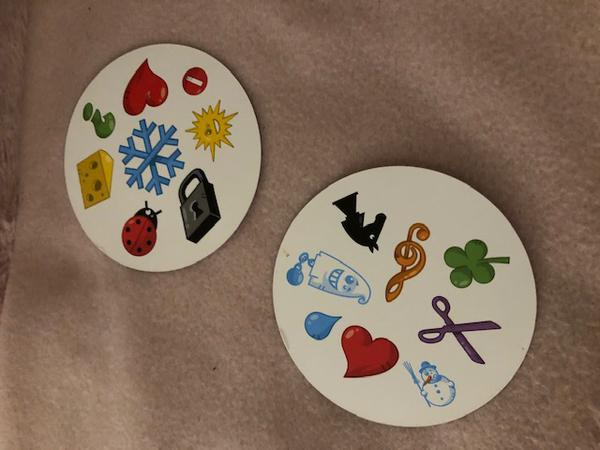bonhomme_neige: (400, 353, 457, 413)
cadenas: (176, 166, 222, 245)
cheval: (329, 187, 388, 257)
ciseau: (418, 294, 497, 365)
coccinelle: (120, 199, 160, 262)
coeur: (336, 322, 400, 381), (121, 56, 170, 116)
fantome: (282, 246, 375, 308)
flocon: (119, 116, 182, 198)
fromage: (71, 145, 115, 214)
goutte: (301, 308, 341, 343)
note: (384, 220, 434, 304)
point_interrogation: (80, 102, 116, 139)
sens_interdit: (182, 66, 211, 99)
soleil: (186, 99, 240, 163)
trefle: (441, 235, 512, 291)
